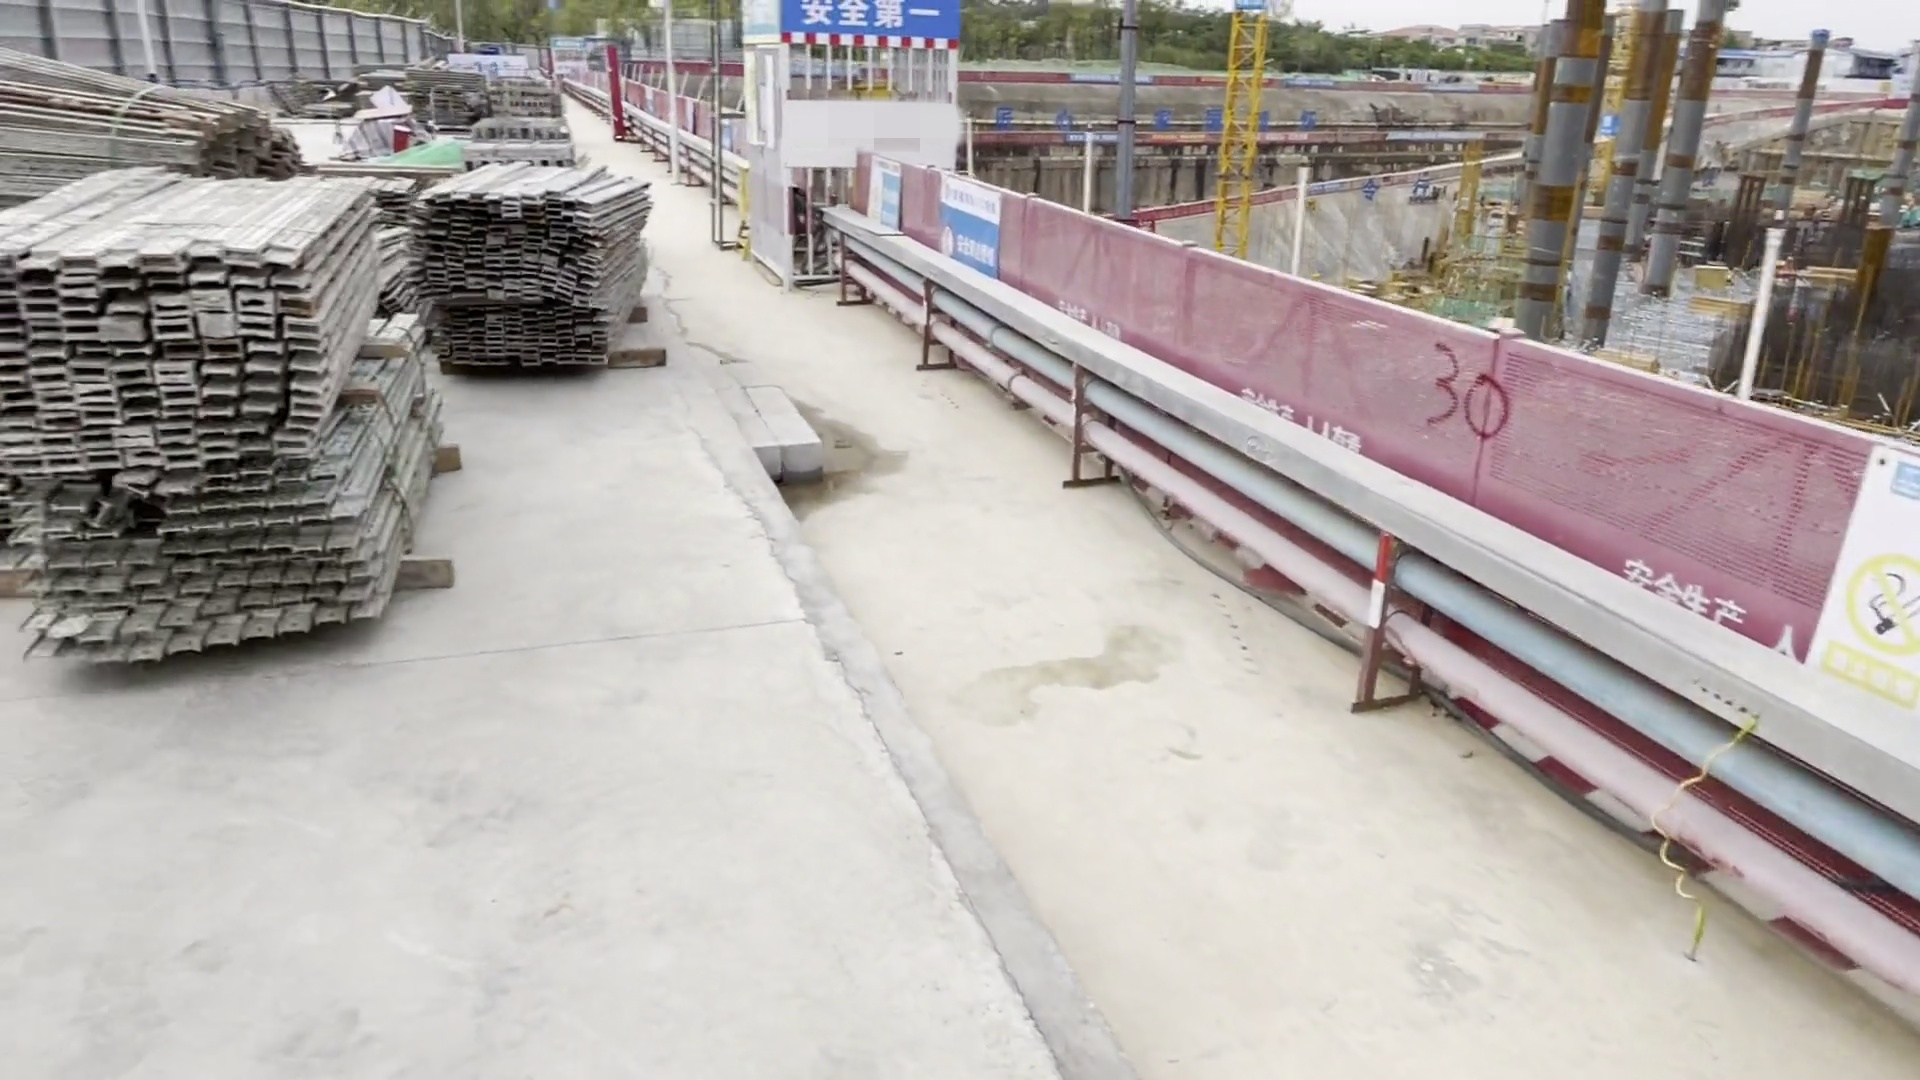fence: (857, 142, 1920, 1044)
slogan: (1804, 436, 1920, 721), (936, 179, 1004, 282)
